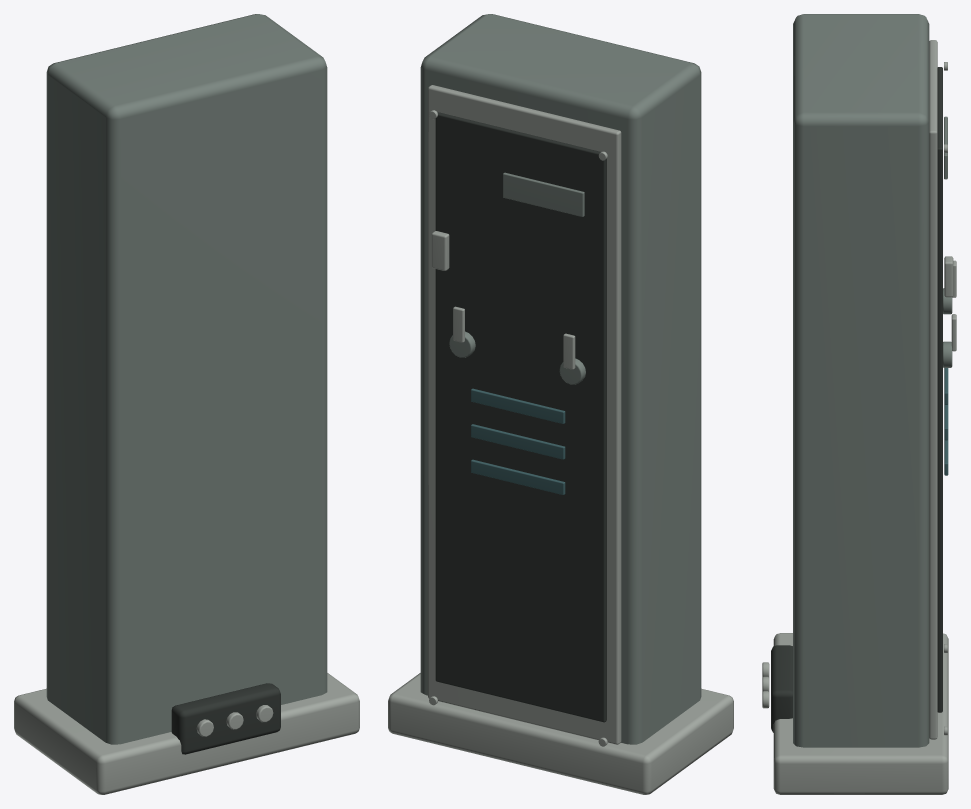
Rendered from E27_DistributionCabinet.fbx.
3 renders of one model, left to right at view 1: azimuth 30°, elevation 25°; view 2: azimuth 150°, elevation 25°; view 3: azimuth 270°, elevation 25°, orthographic.
Visible parts, largest first — view 1: E27_DistributionCabinet_PaintedMetal, E27_DistributionCabinet_Steel, E27_DistributionCabinet_Rubber; view 2: E27_DistributionCabinet_Rubber, E27_DistributionCabinet_PaintedMetal, E27_DistributionCabinet_Steel, E27_DistributionCabinet_Glass; view 3: E27_DistributionCabinet_PaintedMetal, E27_DistributionCabinet_Steel, E27_DistributionCabinet_Rubber, E27_DistributionCabinet_Glass.
Part boxes in pixels (x1,y1,x2,y2): E27_DistributionCabinet_PaintedMetal: [46, 14, 327, 744]; E27_DistributionCabinet_Steel: [14, 673, 359, 794]; E27_DistributionCabinet_Rubber: [171, 683, 280, 754]; E27_DistributionCabinet_Rubber: [435, 112, 606, 722]; E27_DistributionCabinet_PaintedMetal: [420, 14, 701, 744]; E27_DistributionCabinet_Steel: [388, 85, 733, 794]; E27_DistributionCabinet_Glass: [471, 388, 565, 494]; E27_DistributionCabinet_PaintedMetal: [793, 14, 952, 747]; E27_DistributionCabinet_Steel: [762, 40, 956, 794]; E27_DistributionCabinet_Rubber: [771, 67, 942, 732]; E27_DistributionCabinet_Glass: [944, 368, 948, 475].
Bounding box in the file's own units: 62 × 152 × 39.9.
